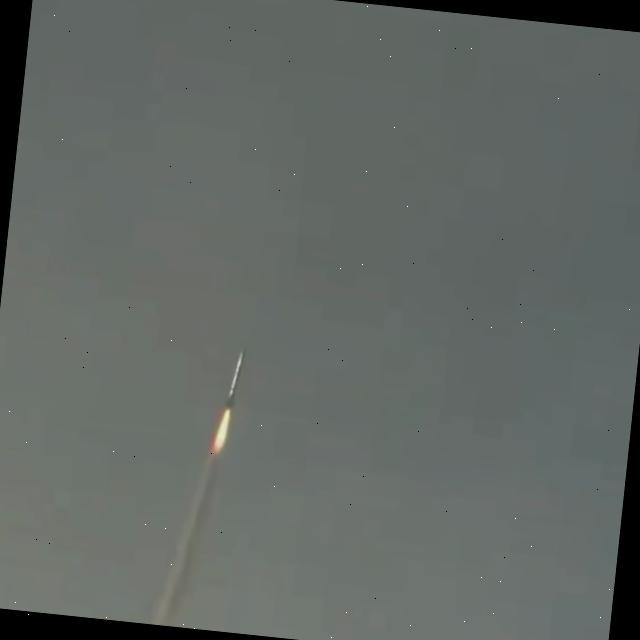rocket: (210, 356, 241, 453)
smoke_trail_with_rocket: (151, 353, 244, 626)
